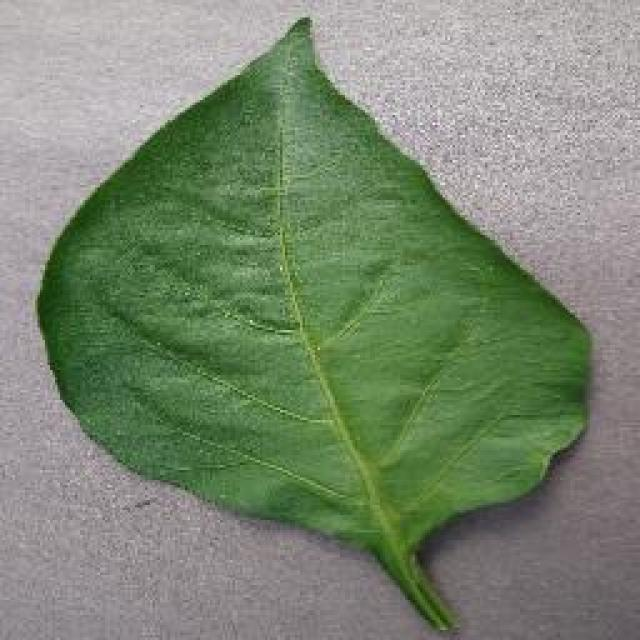Chilli_Healthy: (32, 15, 592, 633)
